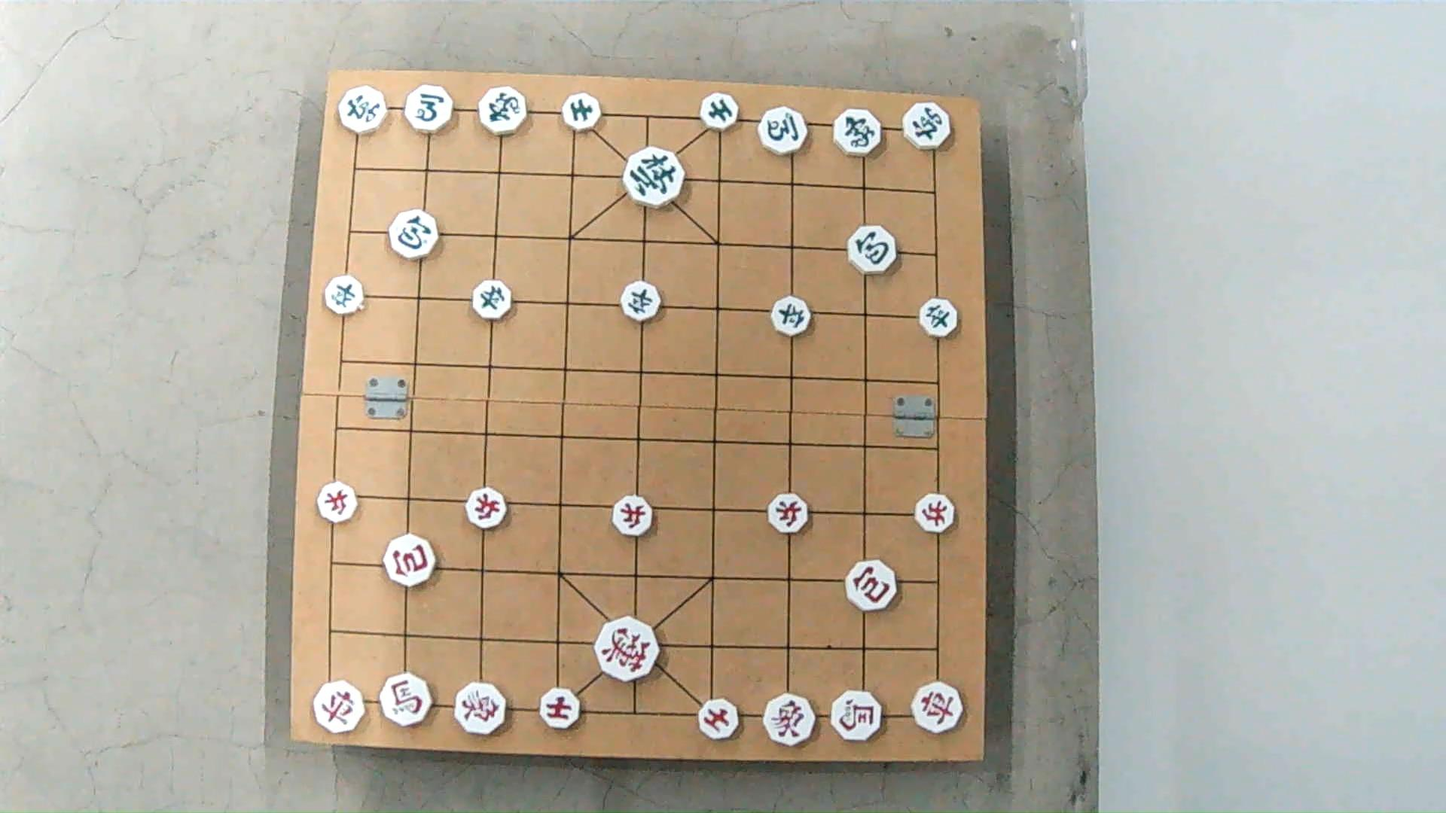cha_green: (337, 85, 385, 132), (904, 101, 950, 150)
cha_red: (911, 682, 964, 735), (313, 681, 367, 733)
jol_green: (471, 283, 514, 321), (621, 285, 663, 323), (770, 298, 813, 335), (323, 276, 363, 313), (921, 300, 960, 337)
jol_red: (612, 496, 654, 535), (465, 489, 508, 527), (316, 484, 358, 522), (770, 495, 812, 533), (916, 494, 958, 531)
ma_green: (757, 106, 808, 152), (402, 89, 452, 133)
ma_red: (828, 688, 882, 743), (381, 677, 435, 726)
po_green: (389, 210, 438, 258), (850, 228, 900, 275)
po_red: (383, 537, 435, 587), (847, 562, 900, 610)
sa_green: (560, 96, 601, 132), (700, 96, 740, 131)
sa_red: (698, 698, 741, 742), (538, 691, 580, 729)
sang_green: (476, 87, 527, 134), (833, 108, 884, 154)
sang_red: (761, 693, 818, 746), (454, 682, 505, 735)
wang_green: (622, 151, 683, 206)
wang_red: (597, 623, 663, 681)
